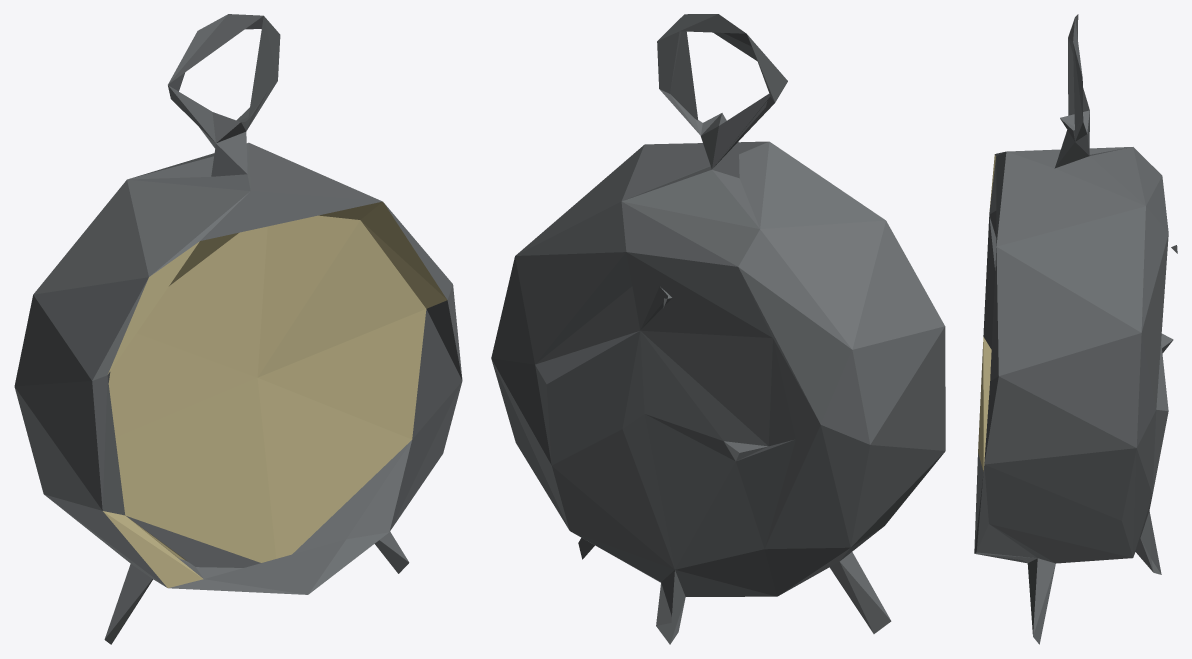
File: alarm_clock.glb
The picture shows the model from 3 angles, left to right: view 1: azimuth 30°, elevation 25°; view 2: azimuth 150°, elevation 25°; view 3: azimuth 270°, elevation 25°; orthographic projection. The views are drawn at different scales.
Visible parts, largest first — view 1: alarm_clock.001; view 2: alarm_clock.001; view 3: alarm_clock.001.
Part boxes in pixels (x1,y1,x2,y2): alarm_clock.001: (14,14,462,644); alarm_clock.001: (491,14,945,644); alarm_clock.001: (974,14,1177,644).
Size of the model in its own units: 0.1075 by 0.1623 by 0.0535.
